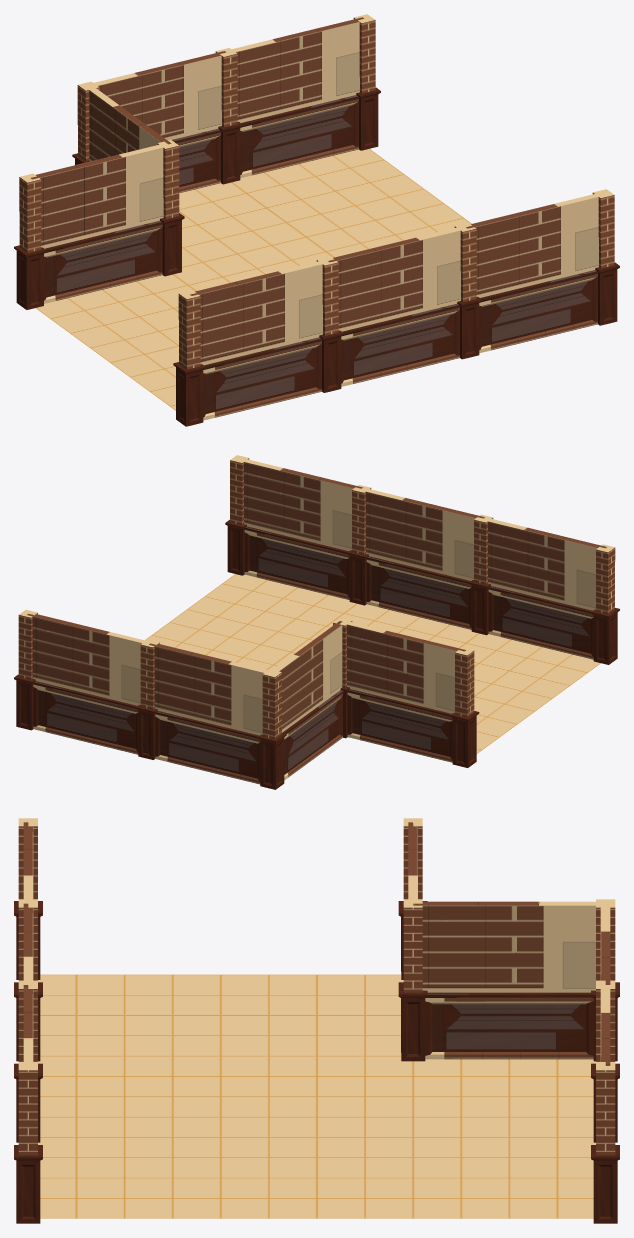
Rendered from interior.gltf.
The picture shows the model from 3 angles, top to bottom: view 1: azimuth 30°, elevation 25°; view 2: azimuth 150°, elevation 25°; view 3: azimuth 270°, elevation 25°; orthographic projection. The views are drawn at different scales.
Visible parts, largest first — view 1: Plane.002, WallBrick.003, WallBrick.001, WallBrick.005, WallBrick.004, WallBrick.006, Plane.007, WallBrick, WallWood.001, WallWood.003, WallWood.006, WallWood.004 (+24 smaller); view 2: Plane.004, WallBrick, WallBrick.001, WallBrick.003, WallBrick.005, WallBrick.004, WallBrick.006, Plane.006, WallWood.005, WallWood.003, WallWood.004, WallWood.006 (+23 smaller); view 3: WallBrick.002, Plane.003, Plane, Plane.007, Plane.005, Plane.006, Plane.002, Plane.004, Plane.001, WallWood.002, LeftColumnBrick.002, LeftColumnBrick.008 (+16 smaller).
Part boxes in pixels (bbox=[...]): Plane.002: bbox=[232, 149, 443, 236]; WallBrick.003: bbox=[30, 144, 169, 248]; WallBrick.001: bbox=[225, 17, 364, 122]; WallBrick.005: bbox=[328, 227, 467, 331]; WallBrick.004: bbox=[190, 261, 329, 365]; WallBrick.006: bbox=[466, 193, 605, 297]; Plane.007: bbox=[35, 274, 195, 362]; WallBrick: bbox=[87, 51, 226, 140]; WallWood.001: bbox=[240, 95, 359, 178]; WallWood.003: bbox=[44, 220, 163, 303]; WallWood.006: bbox=[479, 270, 598, 353]; WallWood.004: bbox=[203, 337, 322, 420]; Plane.004: bbox=[169, 574, 356, 651]; WallBrick: bbox=[149, 643, 271, 735]; WallBrick.001: bbox=[27, 613, 149, 705]; WallBrick.003: bbox=[343, 620, 465, 713]; WallBrick.005: bbox=[362, 487, 484, 580]; WallBrick.004: bbox=[484, 517, 606, 610]; WallBrick.006: bbox=[240, 458, 362, 550]; Plane.006: bbox=[459, 633, 600, 711]; WallWood.005: bbox=[366, 556, 471, 629]; WallWood.003: bbox=[347, 689, 452, 762]; WallWood.004: bbox=[488, 586, 593, 659]; WallWood.006: bbox=[244, 526, 349, 599]; WallBrick.002: bbox=[413, 901, 605, 992]; Plane.003: bbox=[220, 1137, 413, 1218]; Plane: bbox=[220, 1056, 413, 1137]; Plane.007: bbox=[220, 974, 403, 1055]; Plane.005: bbox=[38, 1056, 220, 1137]; Plane.006: bbox=[38, 974, 220, 1055]; Plane.002: bbox=[413, 1137, 595, 1218]; Plane.004: bbox=[38, 1137, 220, 1218]; Plane.001: bbox=[413, 1059, 595, 1137]; WallWood.002: bbox=[425, 992, 593, 1059]; LeftColumnBrick.002: bbox=[596, 1062, 615, 1155]; LeftColumnBrick.008: bbox=[18, 1062, 37, 1155].
Bounding box in the file's own units: 12.6 × 3.5 × 12.6.
